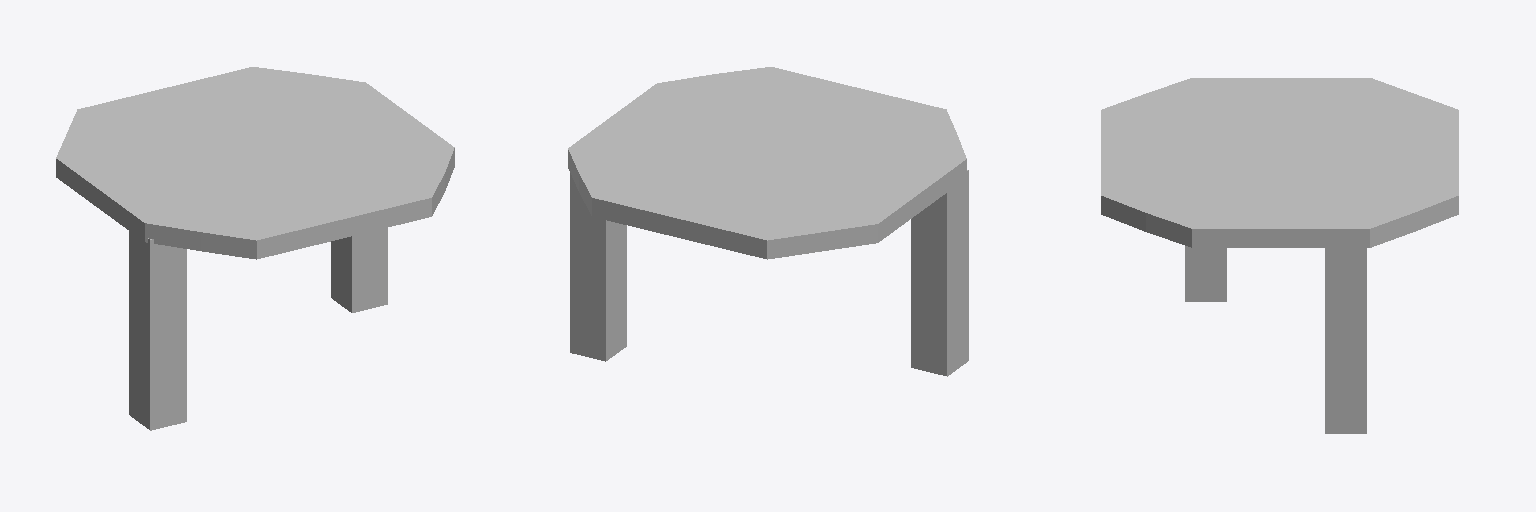
File: ParkingApron.obj
3 renders of one model, left to right at view 1: azimuth 30°, elevation 25°; view 2: azimuth 150°, elevation 25°; view 3: azimuth 270°, elevation 25°, orthographic.
Parts seen in each view (by area): view 1: pCube32; view 2: pCube32; view 3: pCube32.
Part boxes in pixels (x1,y1,x2,y2): pCube32: (56, 67, 454, 430); pCube32: (568, 67, 968, 376); pCube32: (1101, 78, 1458, 433).
Size of the model in its own units: 1.7 by 1.08 by 1.7.